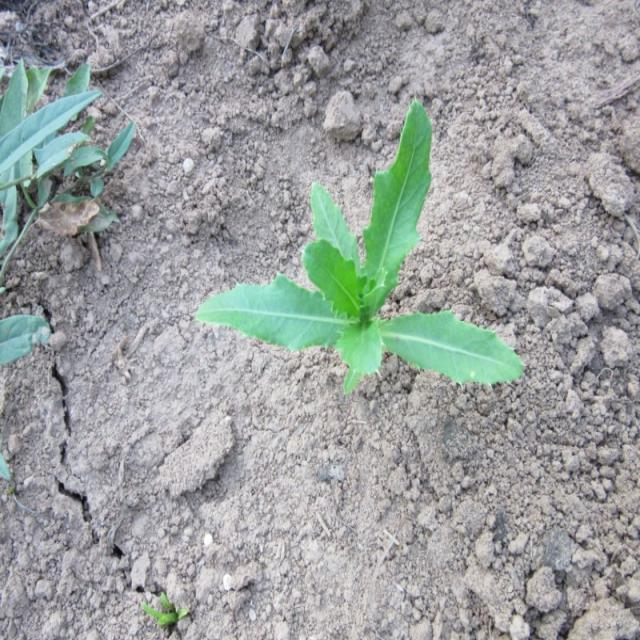cs: (189, 91, 529, 401)
